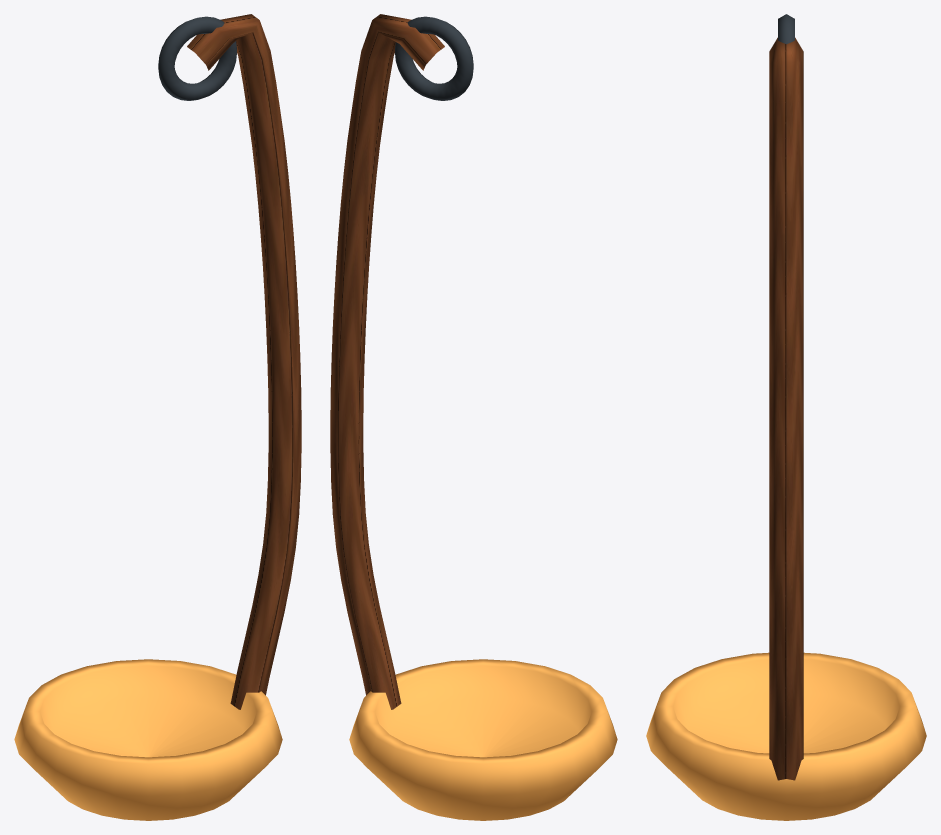
File: hollowwick-halloween-curved-brewing-ladle-12b8680c__21603.glb
3 renders of one model, left to right at view 1: azimuth 30°, elevation 25°; view 2: azimuth 150°, elevation 25°; view 3: azimuth 270°, elevation 25°, orthographic. The views are drawn at different scales.
Parts seen in each view (by area): view 1: curved-brewing-ladle; view 2: curved-brewing-ladle; view 3: curved-brewing-ladle.
Part boxes in pixels (x1,y1,x2,y2): curved-brewing-ladle: (14,14,301,820); curved-brewing-ladle: (330,14,617,820); curved-brewing-ladle: (646,14,926,820).
Size of the model in its own units: 0.2967 by 0.804 by 0.26.
3 materials, 1 textured.
